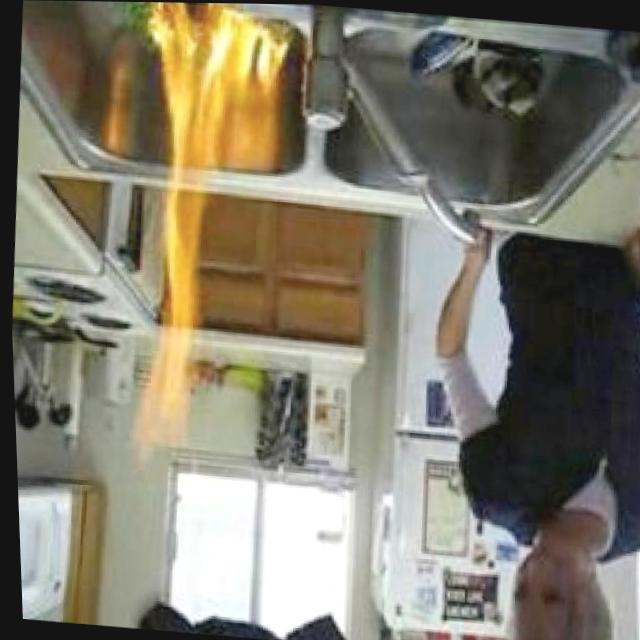helmet: (108, 1, 297, 477)
